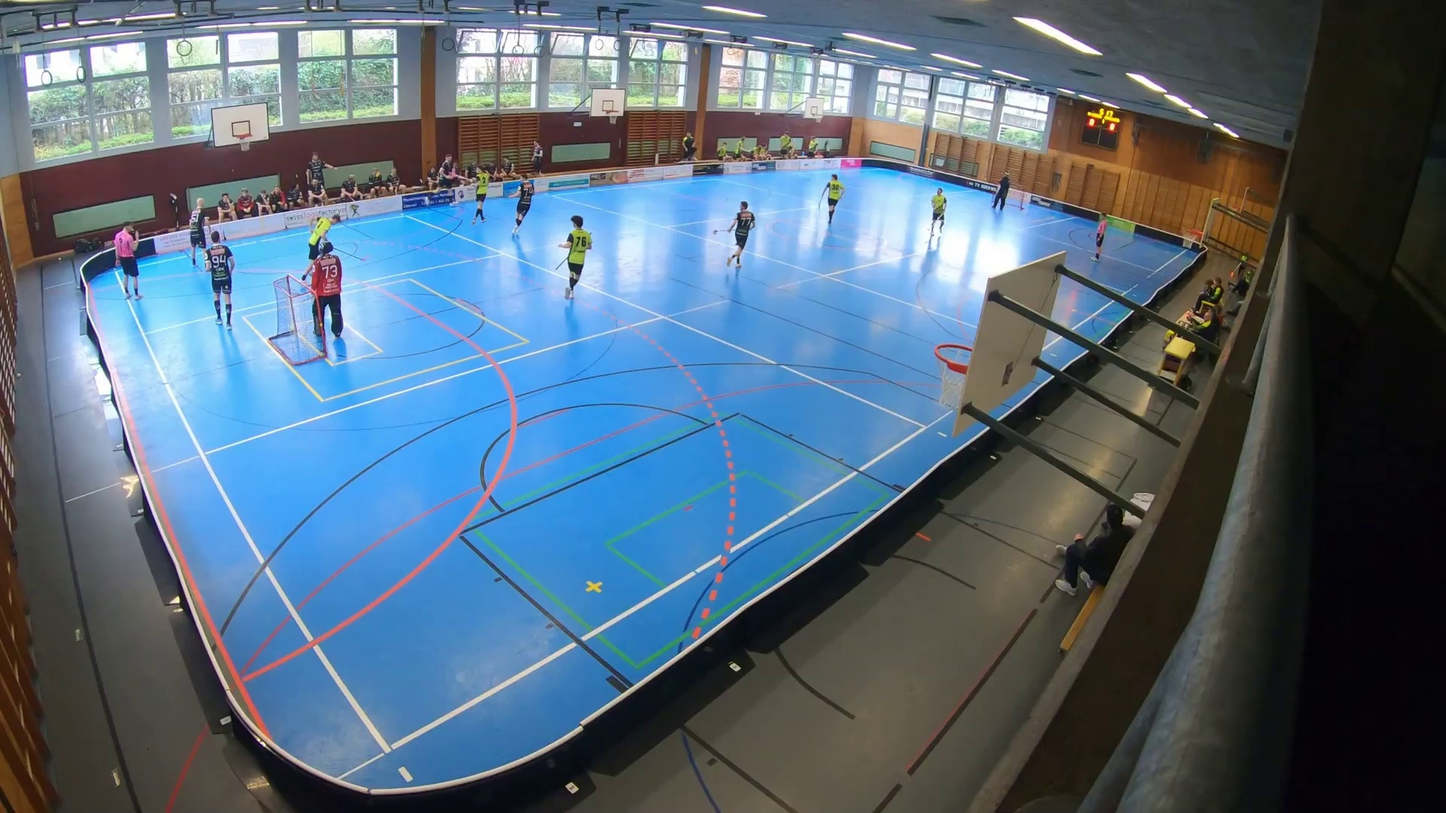Schiri: (104, 213, 161, 315), (1087, 209, 1113, 266)
goalkeeper: (295, 237, 359, 354), (989, 166, 1013, 212)
player: (298, 205, 373, 286), (194, 228, 240, 337), (552, 213, 596, 311), (712, 197, 759, 279), (176, 197, 217, 268), (423, 152, 466, 213), (502, 173, 537, 241), (464, 164, 495, 230), (816, 171, 848, 226), (923, 186, 947, 239)
